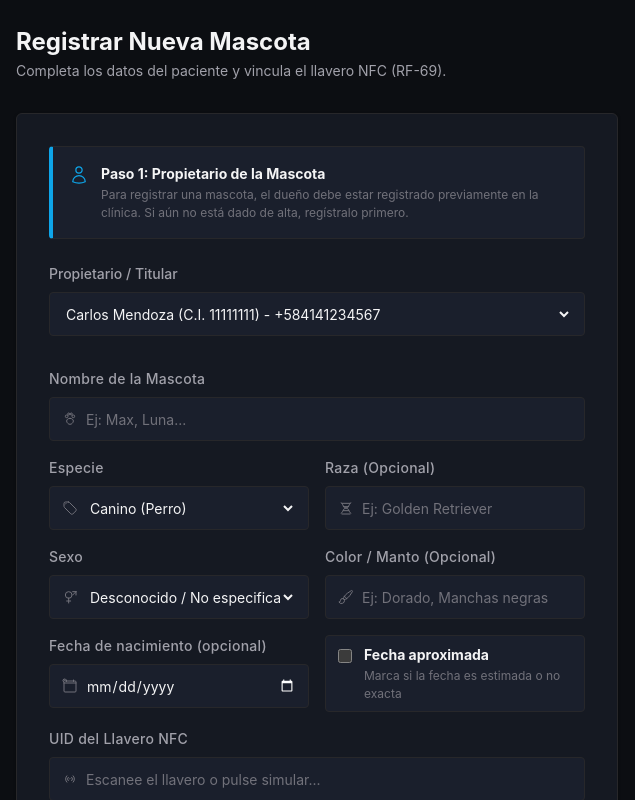
UI Integration: PetRegisterScreen (RF-69, RF-30, RNF-3) › debe crear la mascota sin birthDate si el campo queda vacío (no envía string vacío)
Type "Toby" into the field with placeholder "Ej: Max, Luna..." at (329, 419), box [86, 398, 572, 440]
(page scrolled)
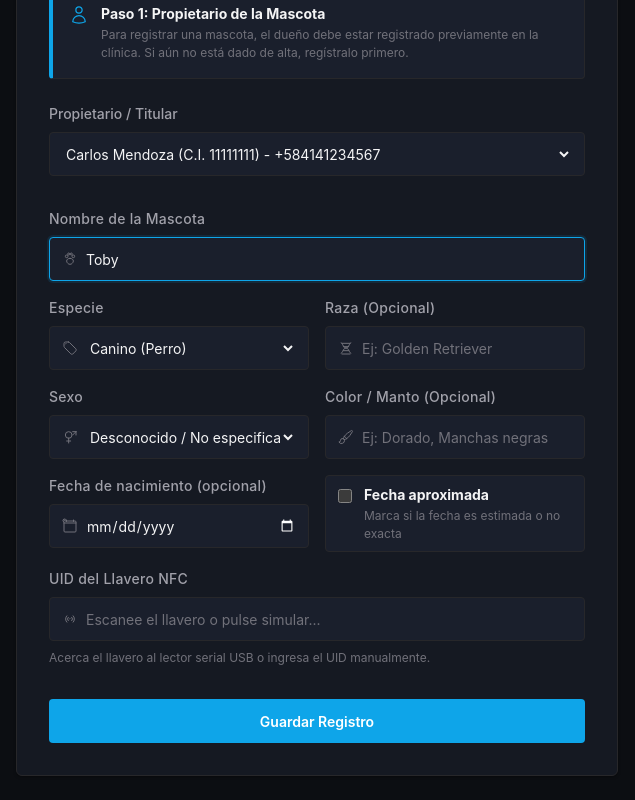
Click the button "Guardar Registro" at (317, 721), box [49, 699, 585, 743]
(page scrolled)
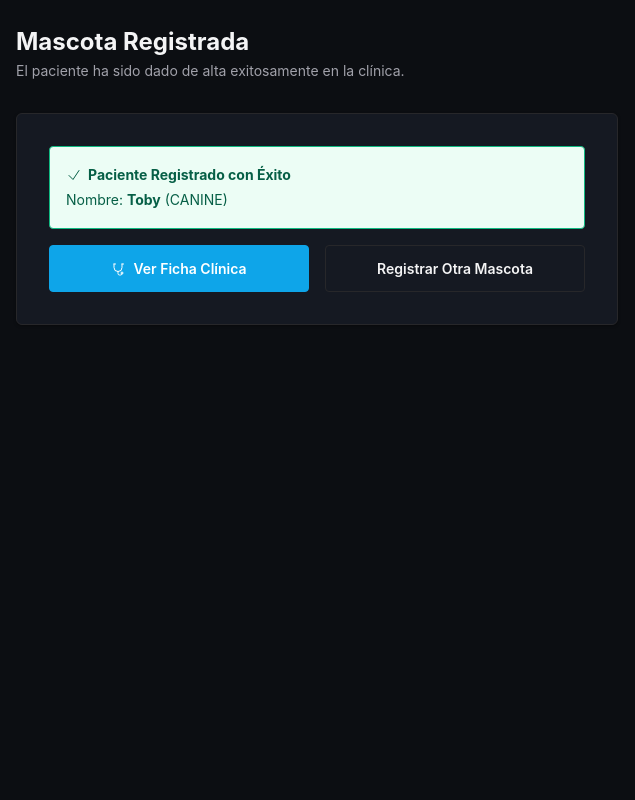
Now the text "Toby" is shown, box [127, 190, 161, 208]
